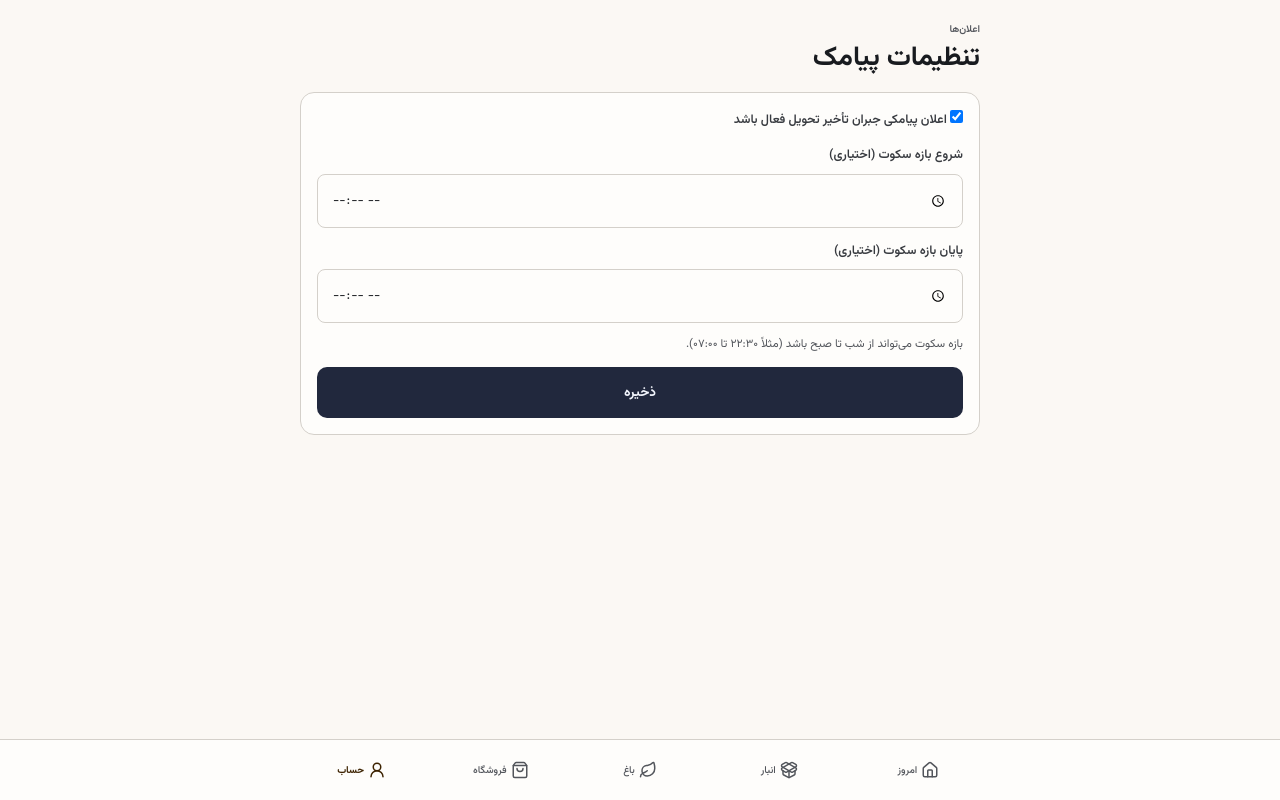
NotificationPreferences › rejects saving only one side of the quiet-hours window client-side
Expected: the checkbox labelled "اعلان پیامکی جبران تأخیر تحویل فعال باشد" is shown, 950,110 -> 963,122
Type "22:30" into the time field labelled "شروع بازه سکوت (اختیاری)". click: (640, 201)
box: 317,174 -> 963,228
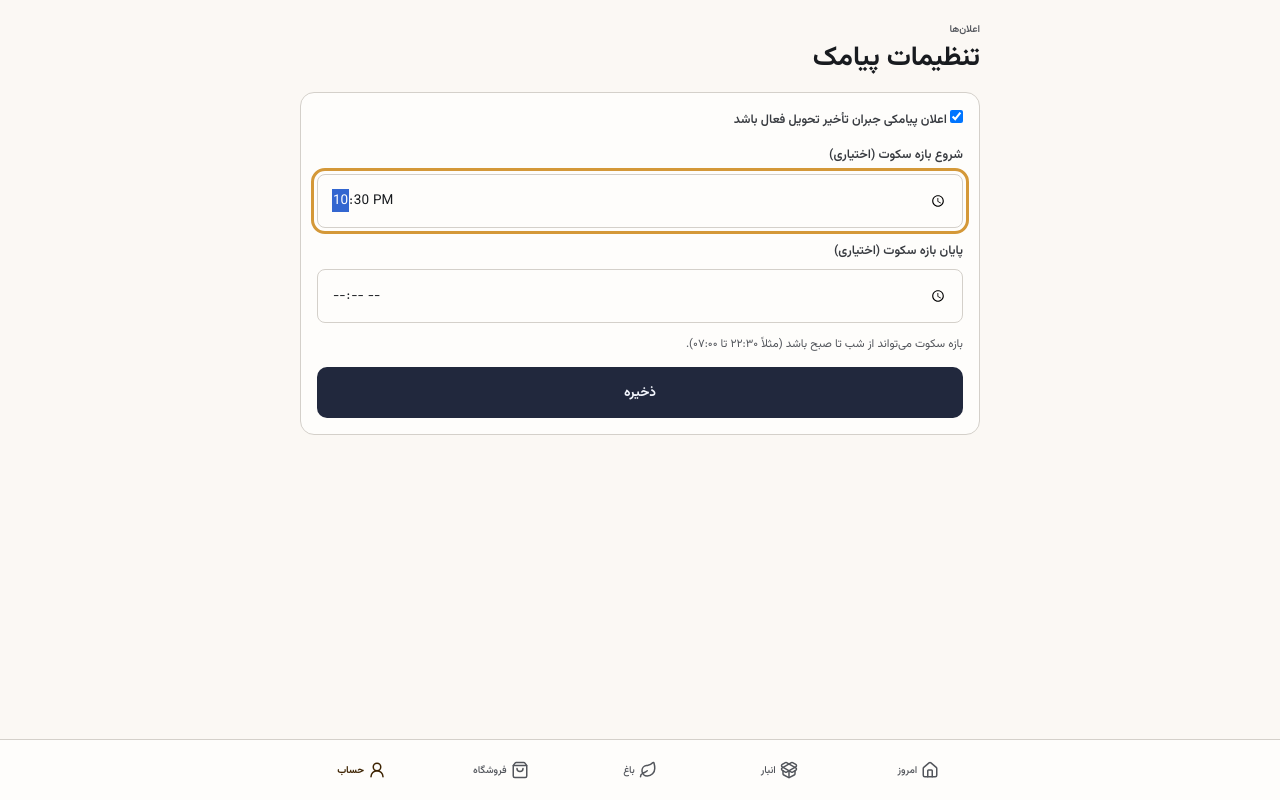
Click the button "ذخیره". click: (640, 392)
box: 317,367 -> 963,418
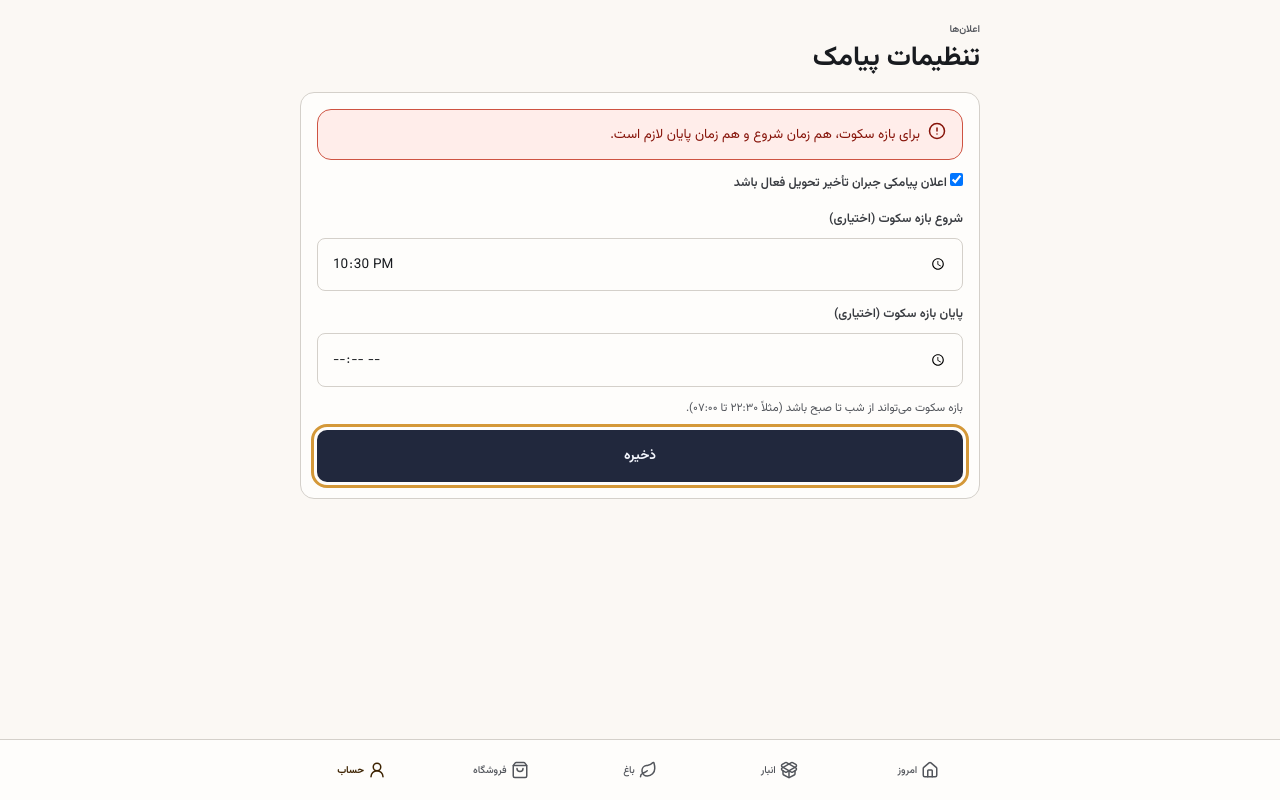
Expected: the text "برای بازه سکوت، هم زمان شروع و هم زمان پایان لازم است." is shown, 610,122 -> 920,147
